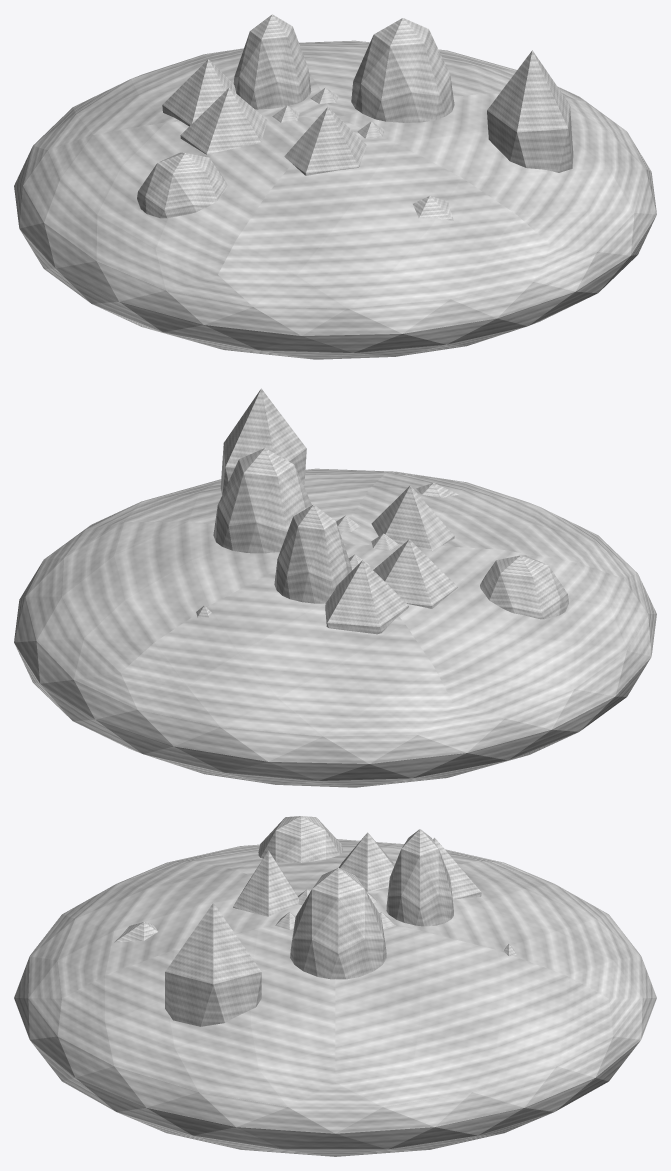
The model's file is limestone_node_variant_b.glb.
3 renders of one model, top to bottom at view 1: azimuth 30°, elevation 25°; view 2: azimuth 150°, elevation 25°; view 3: azimuth 270°, elevation 25°, orthographic.
Parts seen in each view (by area): view 1: Resource node bedrock.001, Exposed ore formation.010, Exposed ore formation.020, Exposed ore formation.013, Exposed ore formation.016, Exposed ore formation.015, Exposed ore formation.017, Exposed ore formation.014, Exposed ore formation.018; view 2: Resource node bedrock.001, Exposed ore formation.010, Exposed ore formation.013, Exposed ore formation.016, Exposed ore formation.014, Exposed ore formation.020, Exposed ore formation.015, Exposed ore formation.017; view 3: Resource node bedrock.001, Exposed ore formation.010, Exposed ore formation.020, Exposed ore formation.013, Exposed ore formation.016, Exposed ore formation.017, Exposed ore formation.015, Exposed ore formation.014, Exposed ore formation.018.
Boxes of the visible parts, x1,y1,x2,y2 form: Resource node bedrock.001: [14, 40, 656, 359]; Exposed ore formation.010: [351, 18, 454, 122]; Exposed ore formation.020: [487, 50, 573, 172]; Exposed ore formation.013: [233, 14, 311, 109]; Exposed ore formation.016: [137, 152, 227, 218]; Exposed ore formation.015: [180, 87, 267, 154]; Exposed ore formation.017: [284, 107, 366, 175]; Exposed ore formation.014: [162, 59, 235, 126]; Exposed ore formation.018: [413, 196, 453, 220]; Resource node bedrock.001: [14, 468, 656, 787]; Exposed ore formation.010: [213, 448, 311, 553]; Exposed ore formation.013: [274, 504, 351, 603]; Exposed ore formation.016: [480, 555, 568, 619]; Exposed ore formation.014: [325, 560, 408, 634]; Exposed ore formation.020: [220, 388, 306, 494]; Exposed ore formation.015: [373, 539, 457, 608]; Exposed ore formation.017: [371, 485, 454, 550]; Resource node bedrock.001: [14, 839, 656, 1156]; Exposed ore formation.010: [290, 868, 386, 979]; Exposed ore formation.020: [165, 903, 261, 1026]; Exposed ore formation.013: [386, 829, 453, 926]; Exposed ore formation.016: [258, 816, 342, 862]; Exposed ore formation.017: [233, 850, 298, 916]; Exposed ore formation.015: [338, 832, 394, 892]; Exposed ore formation.014: [433, 837, 481, 899]; Exposed ore formation.018: [114, 922, 157, 942].
Size of what is drawn, in the model's own units: 6 by 2.53 by 6.
Materials: 2 (2 with a texture image).
